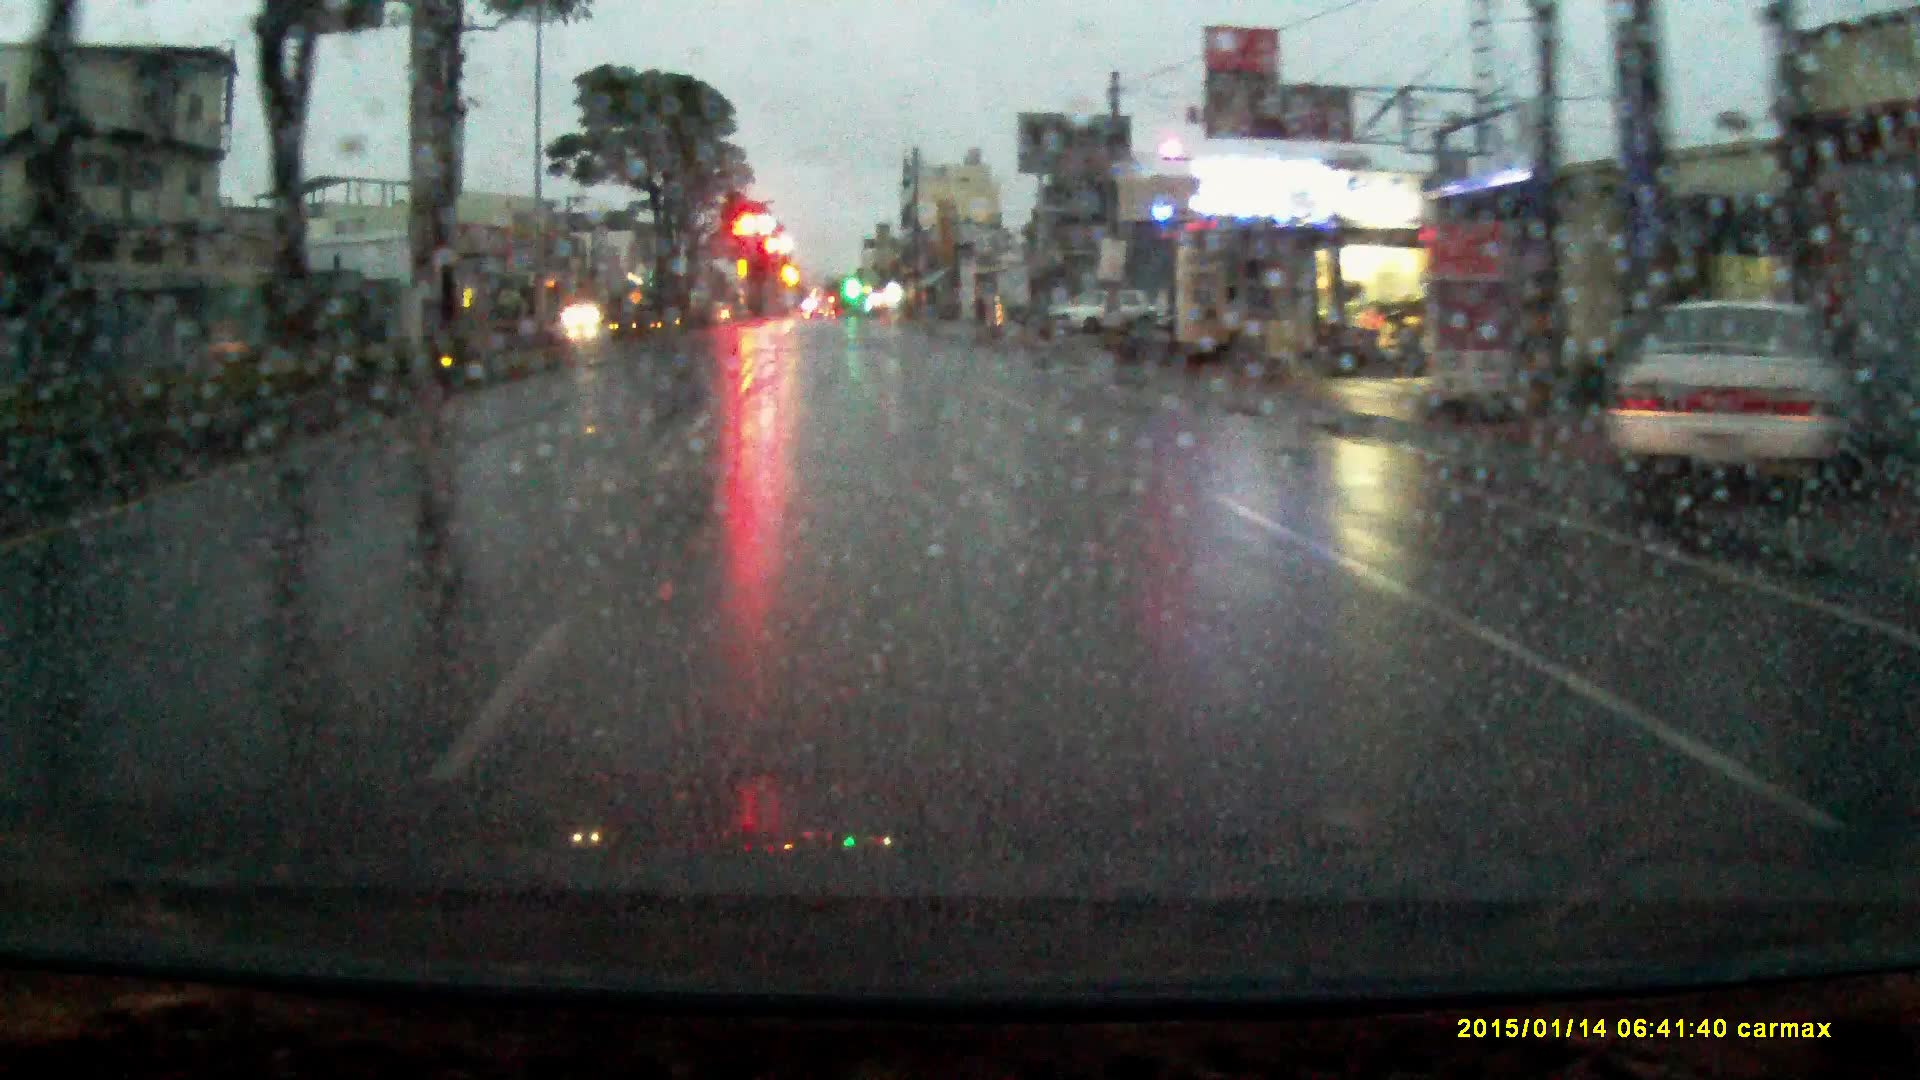vehicle: (1604, 293, 1858, 498), (1051, 285, 1155, 335), (563, 295, 611, 328)
